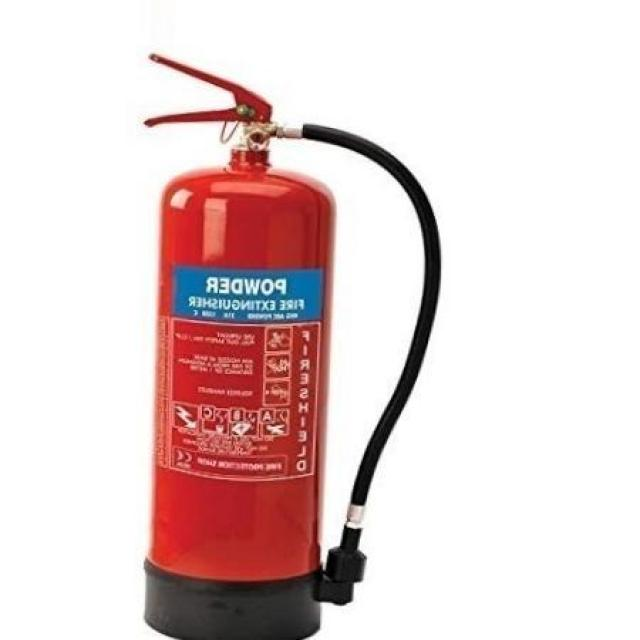fire_extinguisher: (130, 42, 445, 638)
